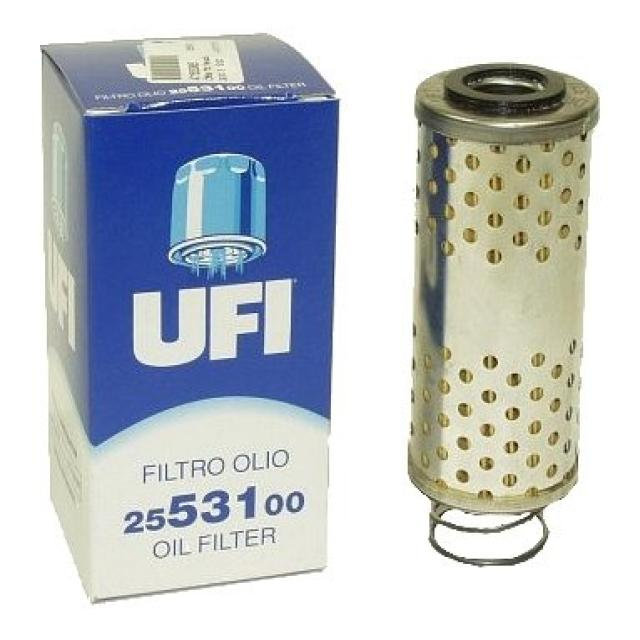oil_filter: (406, 47, 586, 576)
